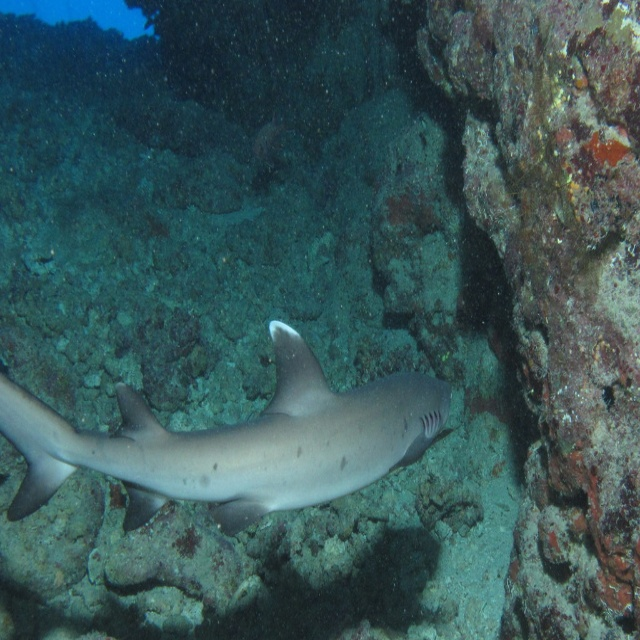Shark: (0, 320, 453, 537)
